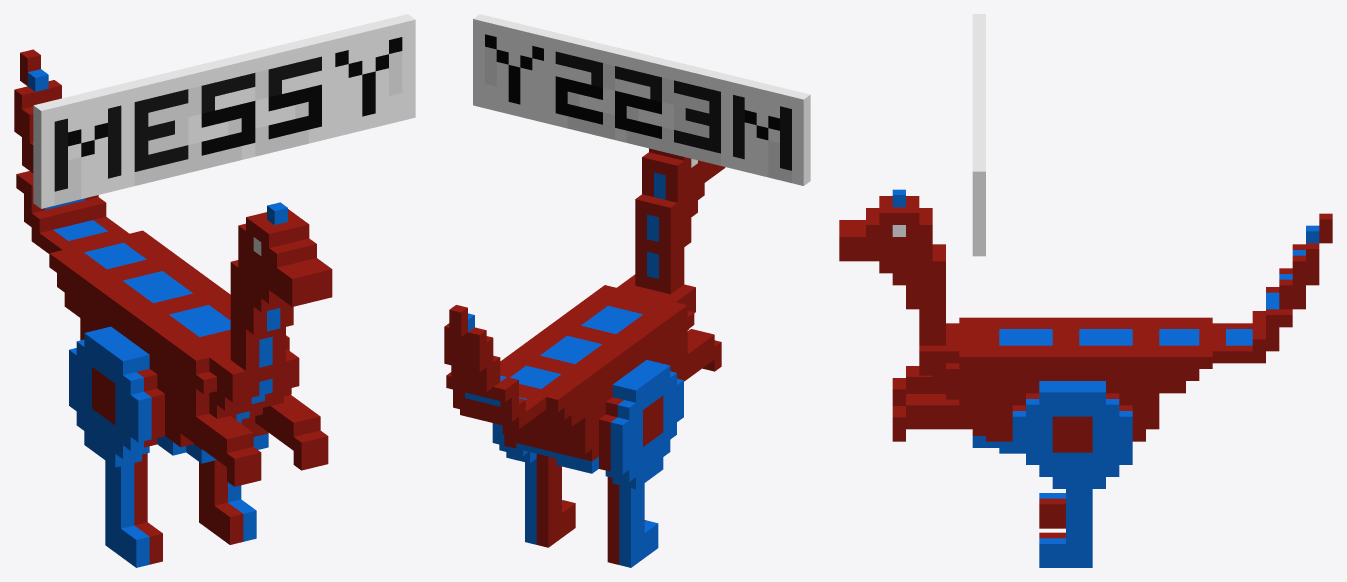
File: dino-q4-e.obj
3 views of the same model, side by side, from view 1: azimuth 30°, elevation 25°; view 2: azimuth 150°, elevation 25°; view 3: azimuth 270°, elevation 25° (orthographic). The views are drawn at different scales.
Visible parts, largest first — view 1: Matrix_40; view 2: Matrix_40; view 3: Matrix_40.
Part boxes in pixels (x1=…): Matrix_40: x1=14, y1=14, x2=415, y2=567; Matrix_40: x1=444, y1=14, x2=810, y2=567; Matrix_40: x1=839, y1=14, x2=1332, y2=567.
Bounding box in the file's own units: 28 × 37 × 37.
Materials: 1 (1 with a texture image).
